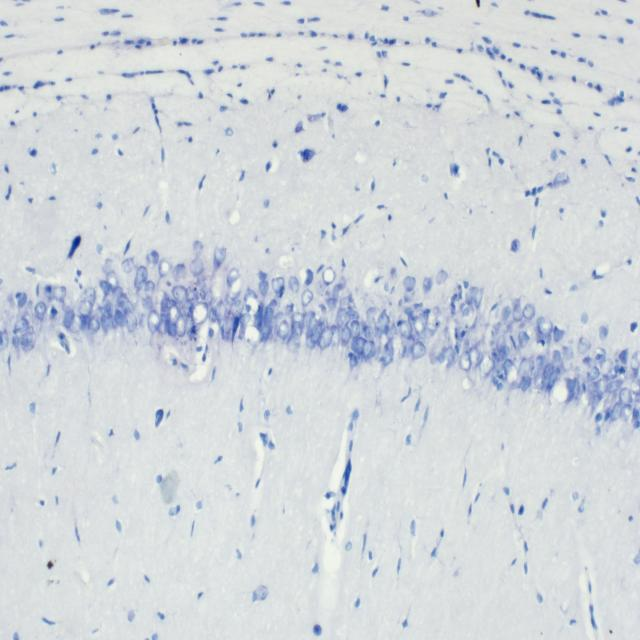neuron: (225, 275, 243, 306), (78, 287, 96, 317), (243, 323, 263, 348), (243, 288, 260, 316), (211, 272, 226, 302), (20, 325, 36, 352), (503, 358, 519, 385), (192, 301, 209, 325), (376, 309, 389, 340), (318, 326, 334, 351), (118, 292, 135, 314), (480, 354, 495, 378), (413, 313, 429, 335), (134, 266, 148, 290), (361, 340, 376, 362), (215, 299, 227, 326), (603, 389, 617, 412), (366, 306, 382, 326), (410, 341, 426, 361), (148, 308, 160, 334), (124, 310, 138, 332), (271, 277, 285, 299), (310, 322, 324, 344), (172, 263, 187, 283), (352, 336, 367, 356), (159, 257, 172, 280), (398, 320, 412, 341), (537, 317, 553, 335), (34, 300, 47, 322), (106, 271, 119, 293), (135, 294, 148, 316), (190, 257, 204, 277), (227, 267, 241, 287), (322, 266, 336, 286), (305, 316, 317, 339), (329, 325, 341, 348), (168, 304, 181, 325), (172, 285, 188, 302), (364, 325, 378, 344), (619, 387, 633, 406), (214, 244, 226, 266), (340, 324, 352, 346), (473, 286, 484, 310), (519, 358, 531, 380), (610, 400, 622, 422), (101, 309, 111, 335), (459, 351, 472, 371), (600, 358, 613, 378), (278, 320, 290, 341), (620, 404, 634, 422), (70, 314, 83, 333), (523, 302, 536, 321), (469, 346, 480, 368), (14, 318, 30, 333), (147, 249, 159, 269), (230, 300, 245, 316), (595, 378, 607, 398), (606, 379, 622, 394), (44, 284, 57, 302), (497, 344, 510, 362), (534, 372, 547, 390), (176, 316, 187, 337), (114, 309, 126, 328), (60, 296, 74, 312), (332, 284, 346, 300), (88, 316, 101, 333), (145, 280, 155, 302), (160, 291, 170, 313), (158, 313, 168, 335), (547, 370, 558, 390), (0, 328, 9, 352), (304, 310, 316, 328), (336, 314, 350, 329), (402, 276, 416, 291), (263, 307, 274, 326), (121, 256, 134, 272), (287, 336, 300, 352), (562, 345, 575, 361), (578, 338, 591, 354), (587, 366, 600, 382), (192, 240, 204, 257), (436, 269, 448, 286), (518, 331, 530, 348), (553, 326, 565, 343), (542, 364, 554, 381), (302, 289, 313, 307), (444, 346, 455, 364), (500, 306, 511, 324), (110, 286, 123, 301), (64, 309, 74, 328), (350, 320, 360, 339), (496, 333, 506, 352), (630, 352, 640, 371), (408, 310, 417, 331), (289, 276, 300, 293), (618, 348, 629, 365), (53, 286, 66, 300), (536, 355, 550, 368), (105, 299, 114, 319), (185, 313, 194, 333), (304, 268, 314, 286), (513, 304, 523, 322), (99, 280, 110, 296), (102, 258, 113, 274), (422, 276, 433, 292), (224, 315, 233, 334), (259, 281, 269, 298), (520, 375, 530, 392), (630, 379, 640, 396), (186, 289, 198, 303), (345, 309, 360, 320), (348, 352, 358, 368), (464, 288, 474, 304), (239, 312, 251, 325), (326, 297, 338, 310), (291, 322, 302, 336), (453, 284, 462, 301), (17, 292, 27, 307), (167, 323, 177, 338), (262, 323, 270, 341), (291, 311, 303, 323), (599, 324, 608, 340), (404, 289, 415, 302), (587, 382, 597, 396), (138, 313, 146, 330), (208, 307, 216, 323), (306, 336, 315, 349), (12, 334, 20, 348), (338, 276, 346, 290), (386, 350, 394, 364), (553, 350, 561, 364), (285, 302, 294, 314), (619, 366, 629, 376), (166, 299, 177, 308), (437, 352, 446, 363), (200, 288, 208, 300), (360, 320, 368, 332), (274, 312, 283, 320)
